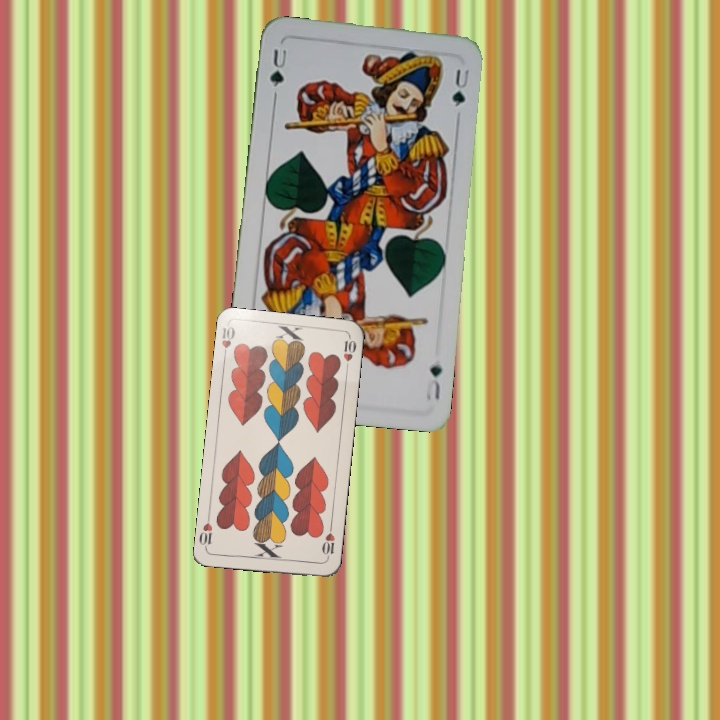GU: (266, 45, 290, 100), (426, 360, 445, 402)
H10: (217, 323, 238, 362), (318, 522, 337, 562)
